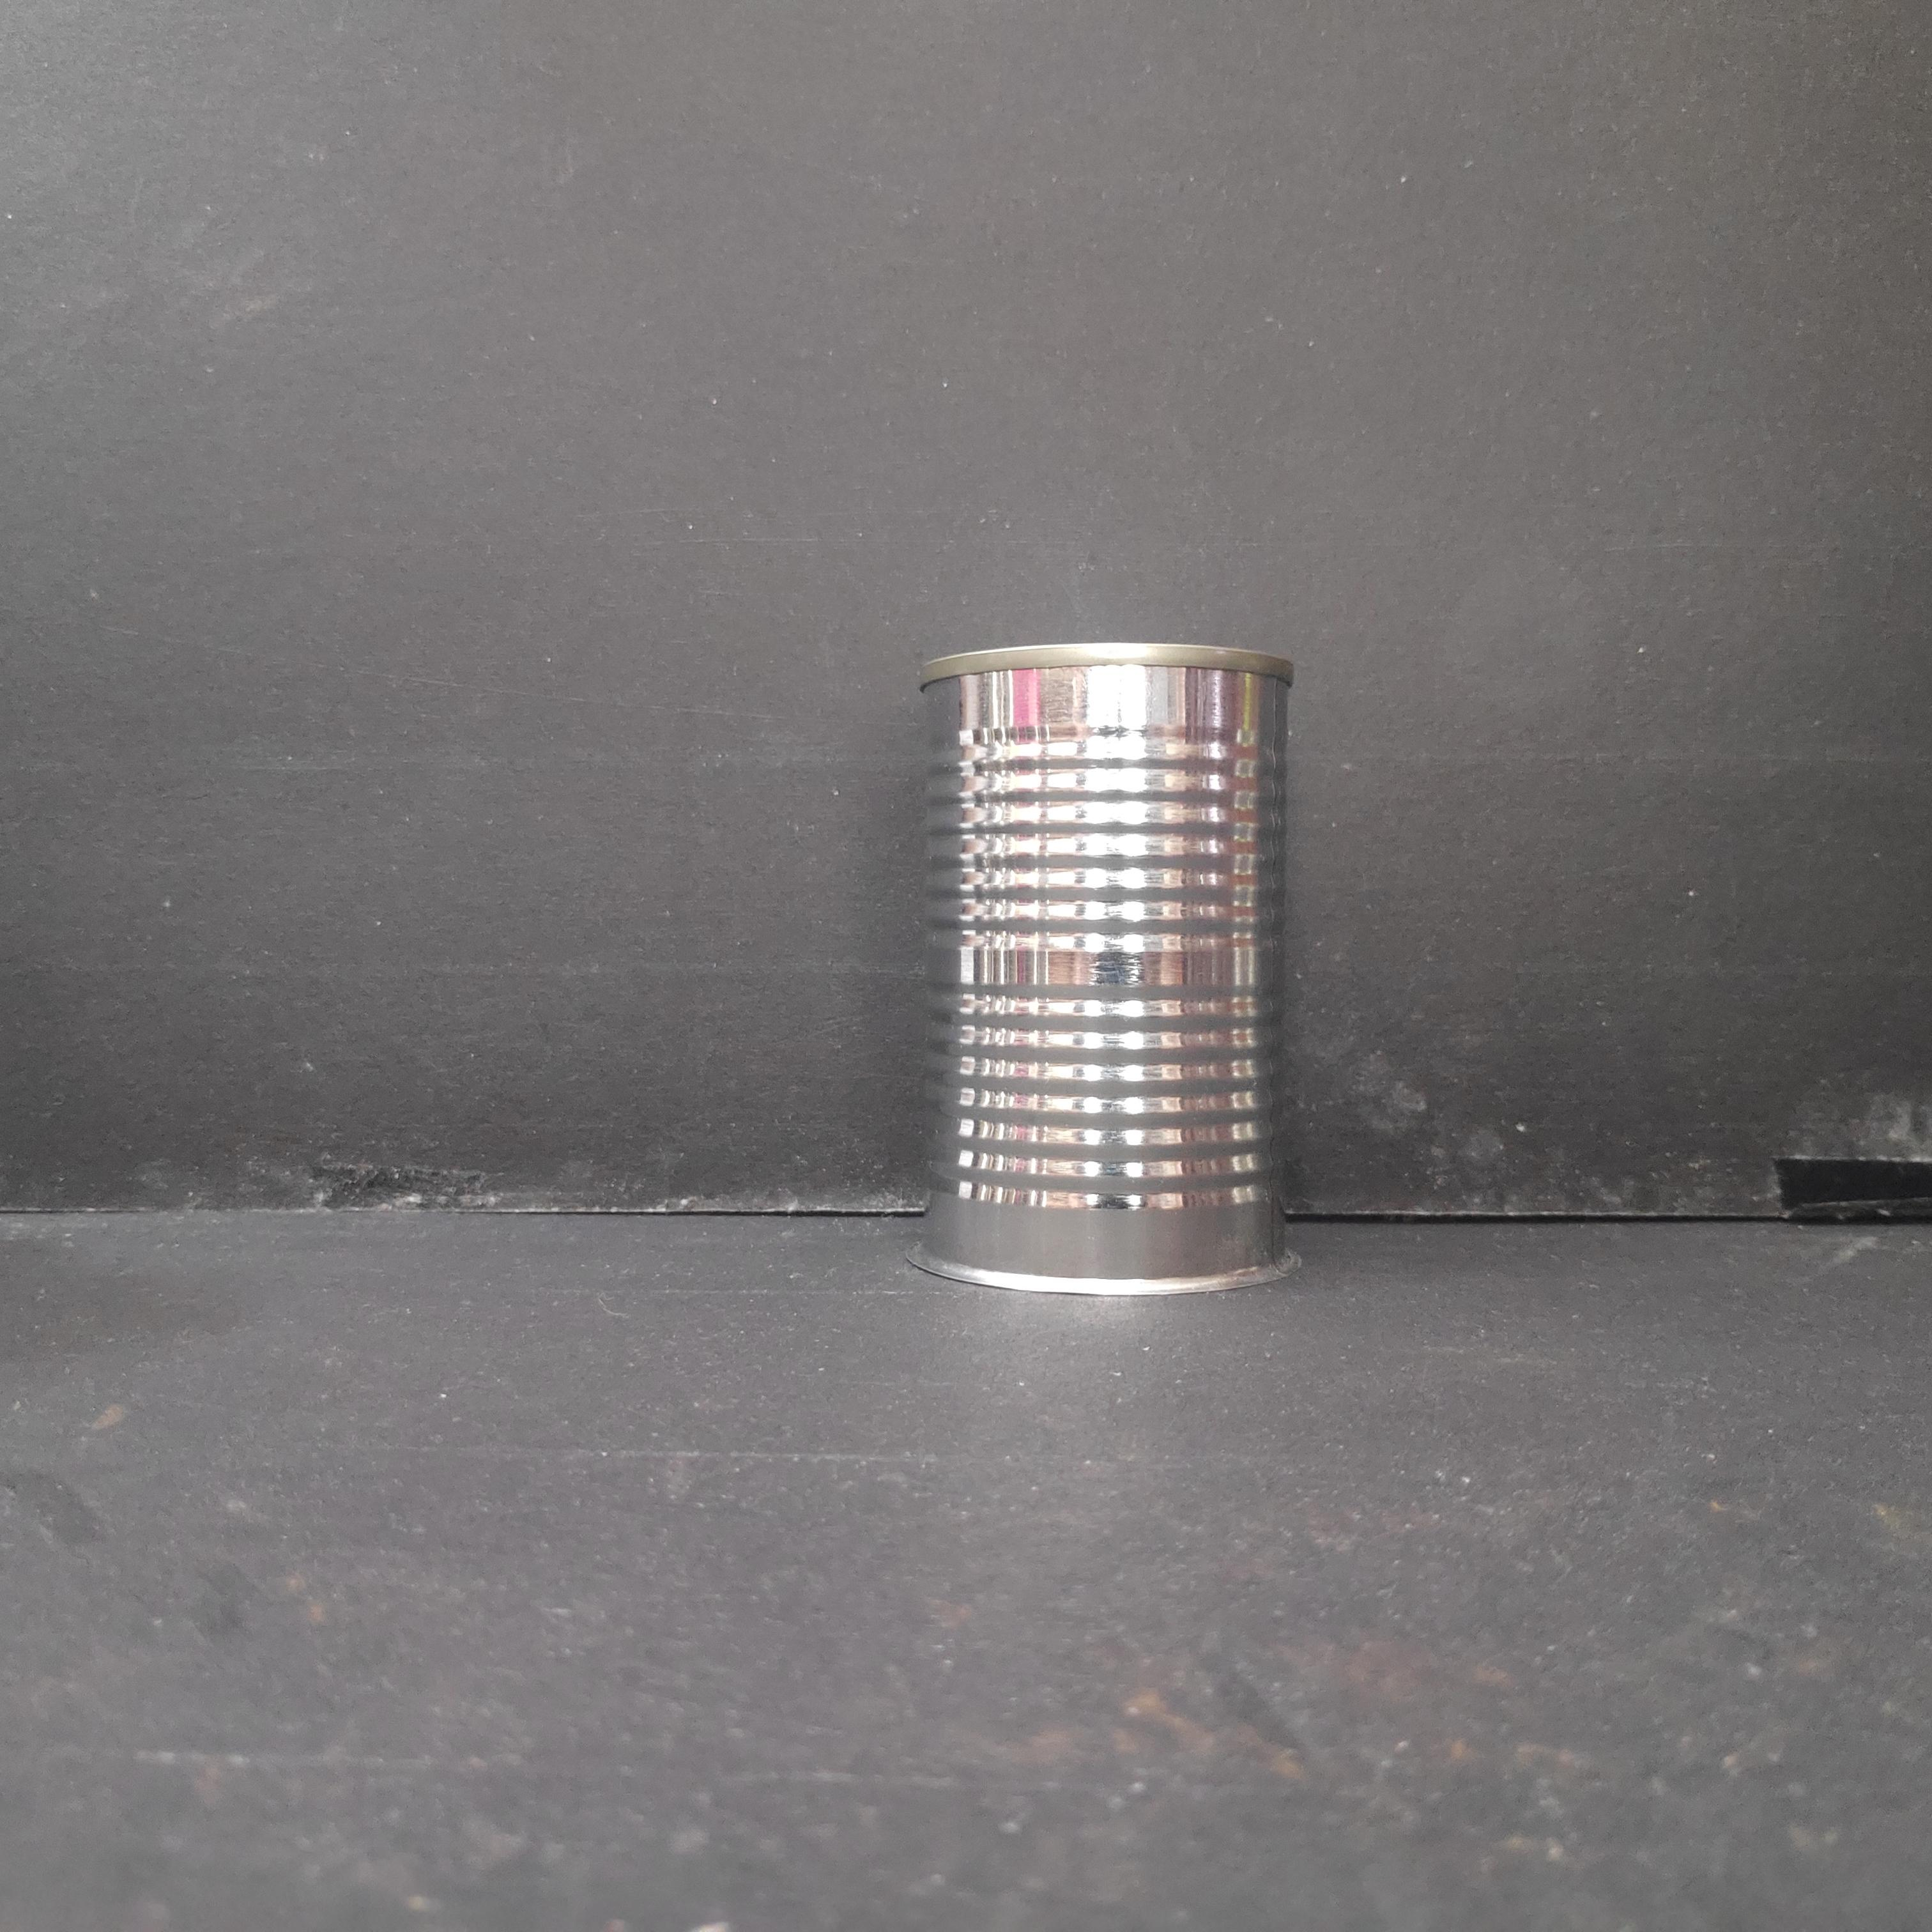No defect: (906, 633, 1313, 1309)
